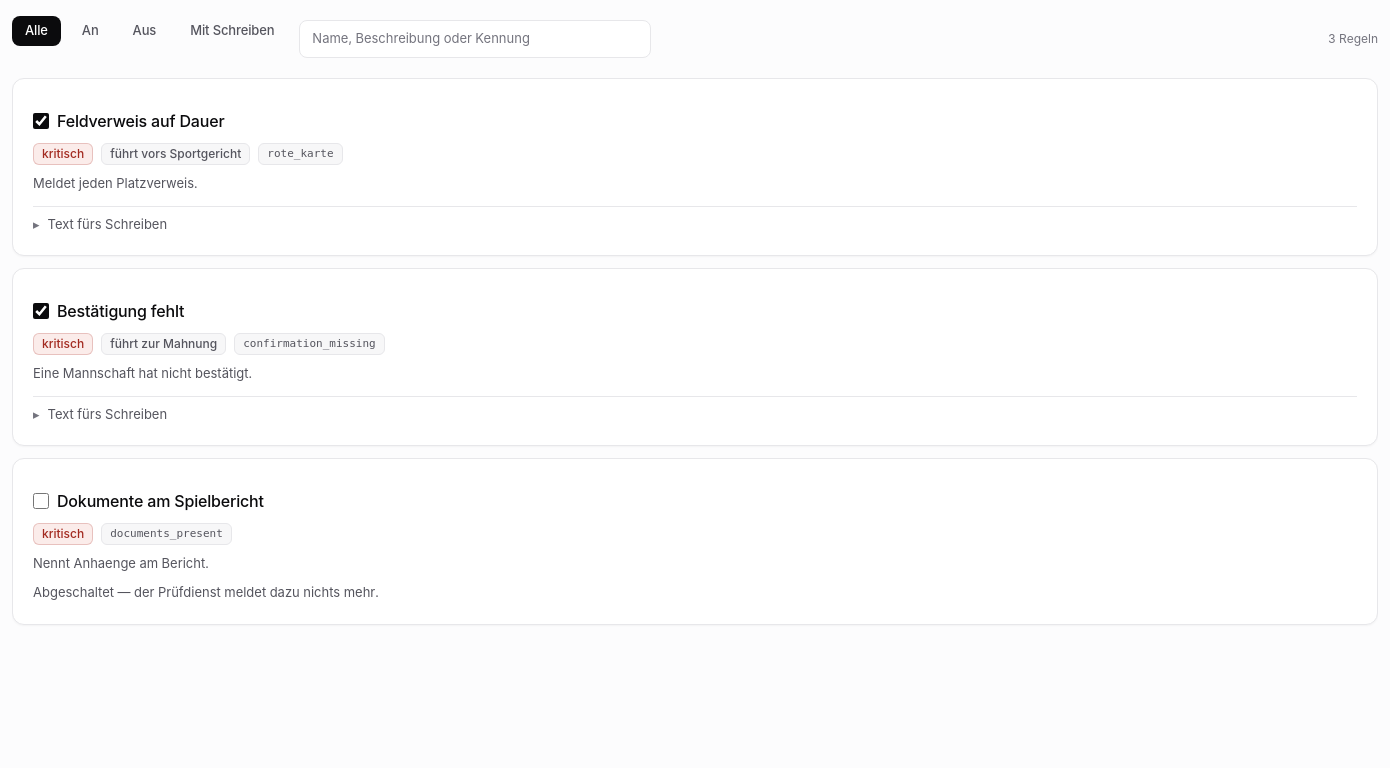
it: Einschränken › sucht auch in der technischen Kennung
The image size is (1390, 768).
Type "confirmation" into the search field named "Suchen" at point(475, 39), box [299,20,651,58]
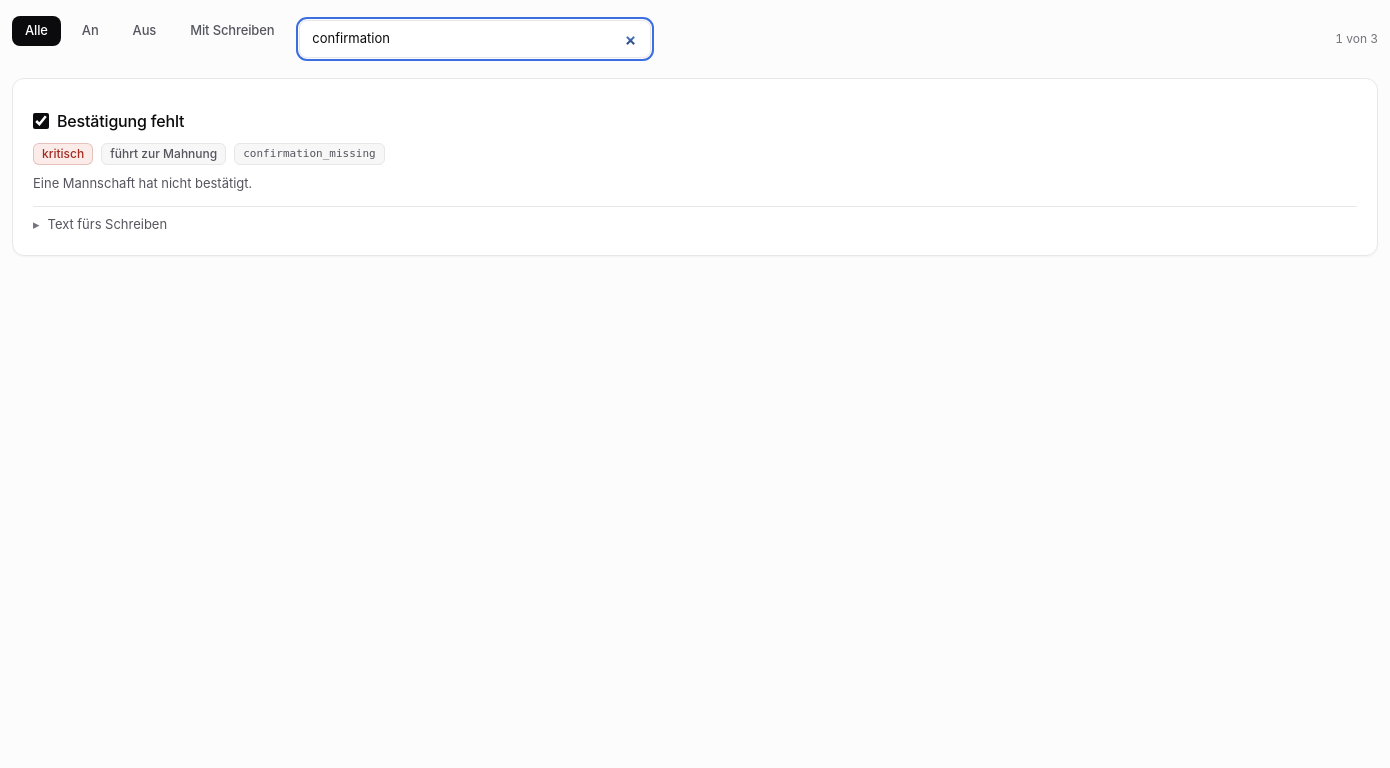
Expected: the text "1 von 3" is shown, [1335,30,1378,48]
